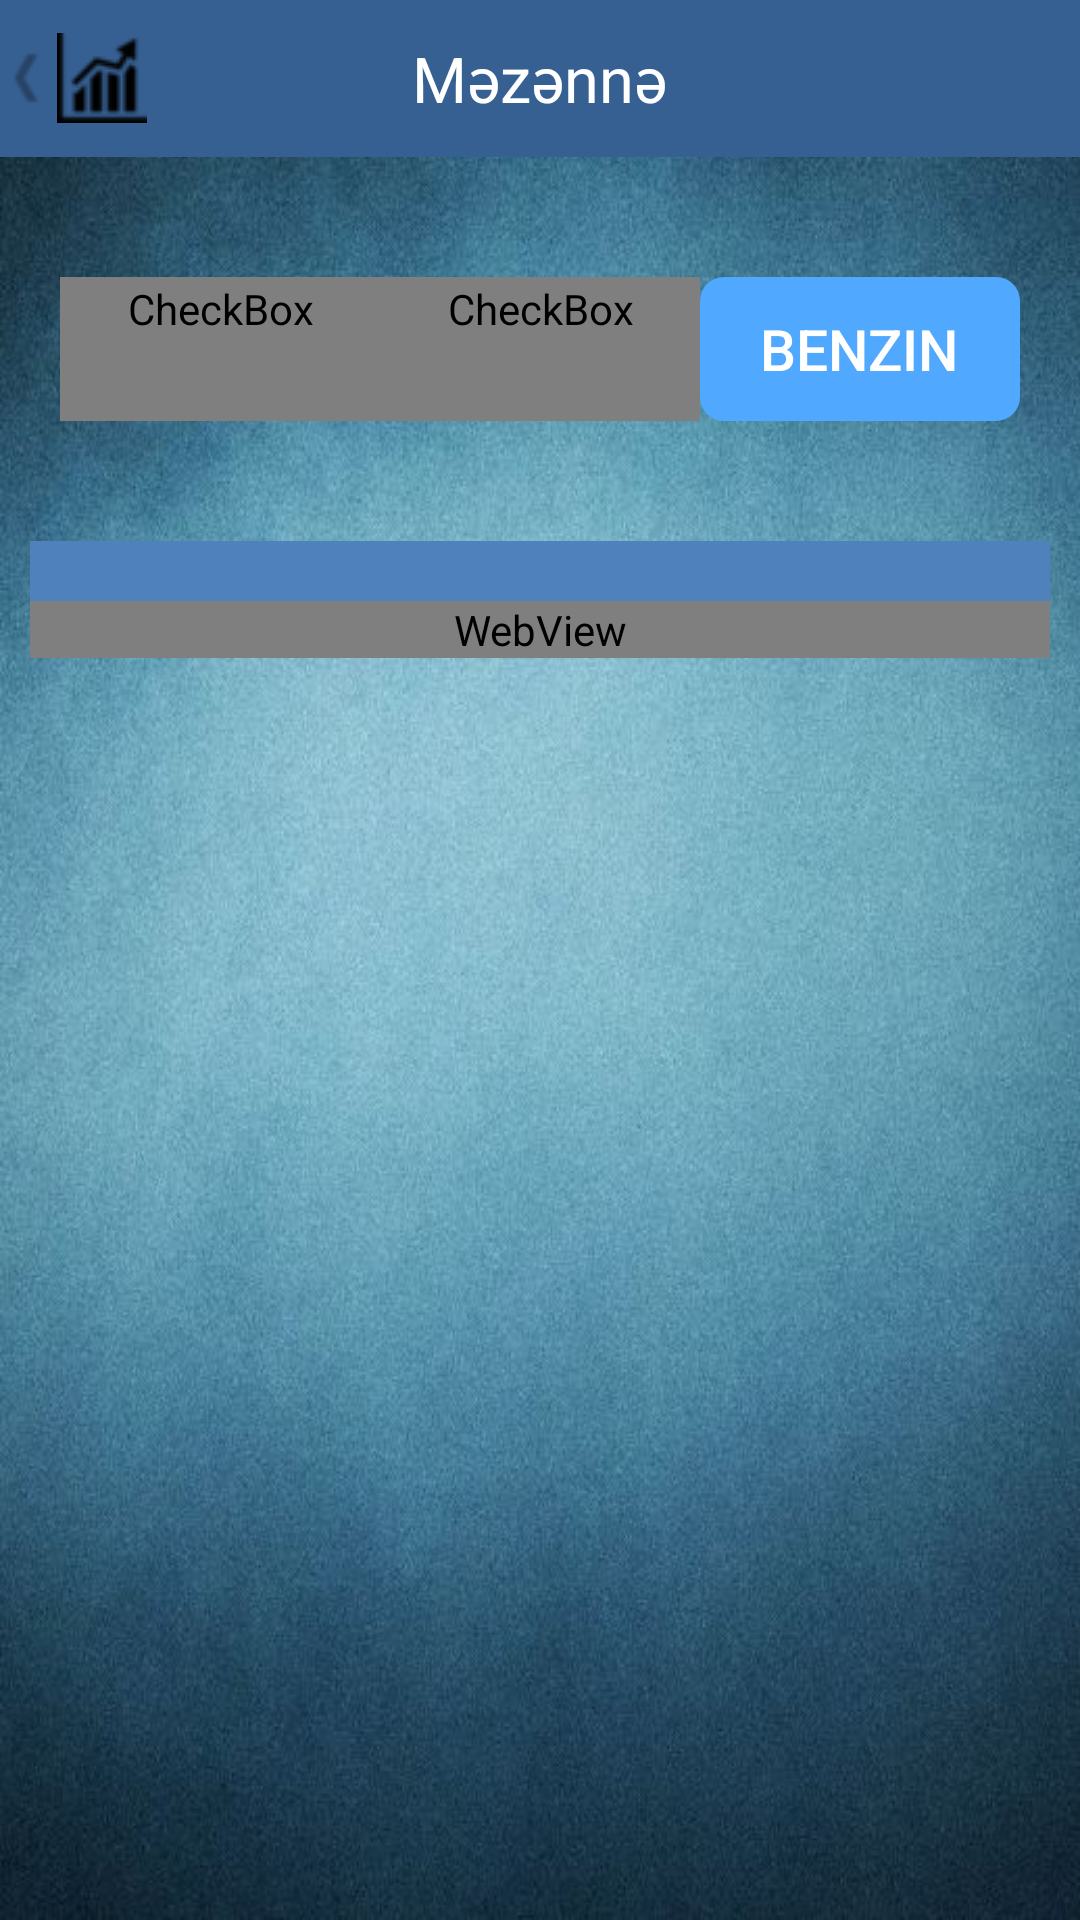

Where icons sit on this 1080 x 1920 app screen, as (x1, y1, x2, y2):
arrow: (16, 54, 36, 102)
